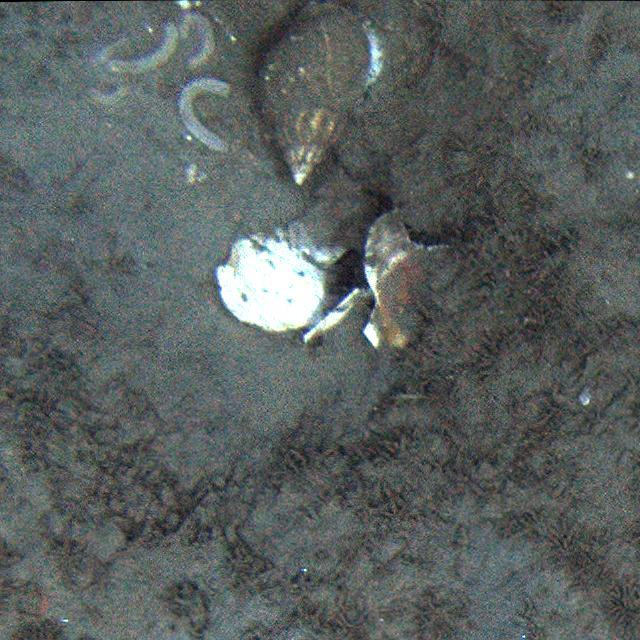whelk: (261, 5, 366, 194)
